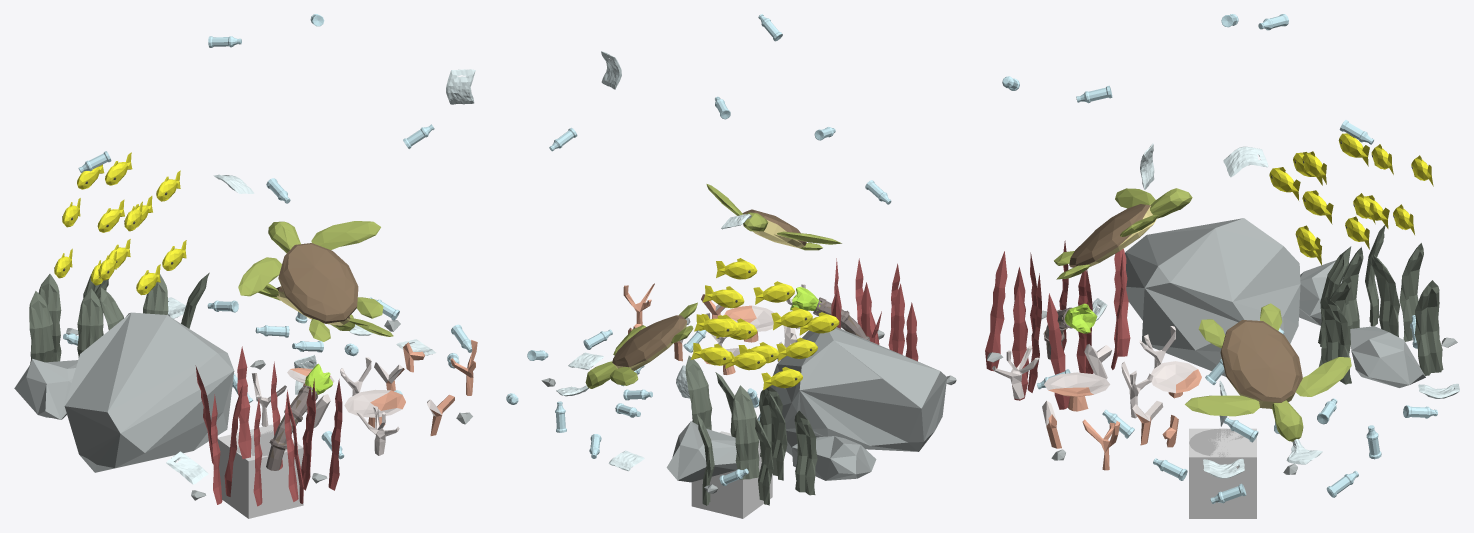
Rendered from objects_bosque.glb.
The picture shows the model from 3 angles, left to right: view 1: azimuth 30°, elevation 25°; view 2: azimuth 150°, elevation 25°; view 3: azimuth 270°, elevation 25°; orthographic projection. The views are drawn at different scales.
Visible parts, largest first — view 1: Object_14, Object_3, Object_17, Object_4, Object_8, Object_9, Cube.001, Object_2, Object_12, Object_16, Object_11, Object_13 (+2 smaller); view 2: Object_14, Object_17, Object_9, Object_2, Object_3, Object_8, Cube.001, Object_4, Object_16, Object_11, Object_12, Object_5 (+1 smaller); view 3: Object_14, Object_17, Object_3, Object_4, Object_8, Object_9, Object_2, Object_12, Cube.001, Object_16, Object_11, Object_19 (+3 smaller).
Part boxes in pixels (x1=…): Object_14: x1=14, y1=312, x2=472, y2=500; Object_3: x1=195, y1=346, x2=342, y2=506; Object_17: x1=29, y1=272, x2=209, y2=364; Object_4: x1=276, y1=243, x2=358, y2=323; Object_8: x1=238, y1=221, x2=393, y2=341; Object_9: x1=54, y1=152, x2=186, y2=295; Cube.001: x1=217, y1=424, x2=303, y2=518; Object_2: x1=63, y1=14, x2=472, y2=459; Object_12: x1=252, y1=357, x2=441, y2=455; Object_16: x1=166, y1=69, x2=475, y2=484; Object_11: x1=290, y1=340, x2=477, y2=435; Object_13: x1=266, y1=385, x2=317, y2=470; Object_14: x1=541, y1=317, x2=956, y2=493; Object_17: x1=685, y1=355, x2=817, y2=505; Object_9: x1=691, y1=258, x2=839, y2=390; Object_2: x1=506, y1=14, x2=891, y2=485; Object_3: x1=831, y1=258, x2=918, y2=361; Object_8: x1=585, y1=184, x2=841, y2=388; Cube.001: x1=691, y1=431, x2=772, y2=518; Object_4: x1=612, y1=209, x2=806, y2=367; Object_16: x1=556, y1=51, x2=751, y2=471; Object_11: x1=623, y1=283, x2=758, y2=374; Object_12: x1=678, y1=284, x2=805, y2=362; Object_5: x1=613, y1=213, x2=804, y2=371; Object_14: x1=987, y1=218, x2=1457, y2=474; Object_17: x1=1318, y1=225, x2=1443, y2=384; Object_3: x1=985, y1=240, x2=1130, y2=409; Object_4: x1=1069, y1=204, x2=1302, y2=402; Object_8: x1=1054, y1=188, x2=1351, y2=441; Object_9: x1=1269, y1=133, x2=1433, y2=265; Object_2: x1=1002, y1=14, x2=1437, y2=503; Object_12: x1=992, y1=326, x2=1197, y2=425; Cube.001: x1=1189, y1=428, x2=1256, y2=518; Object_16: x1=1092, y1=143, x2=1459, y2=478; Object_11: x1=1046, y1=369, x2=1201, y2=470; Object_19: x1=1189, y1=428, x2=1244, y2=457.
Size of the model in its own units: 14.88 by 15.62 by 13.96.
